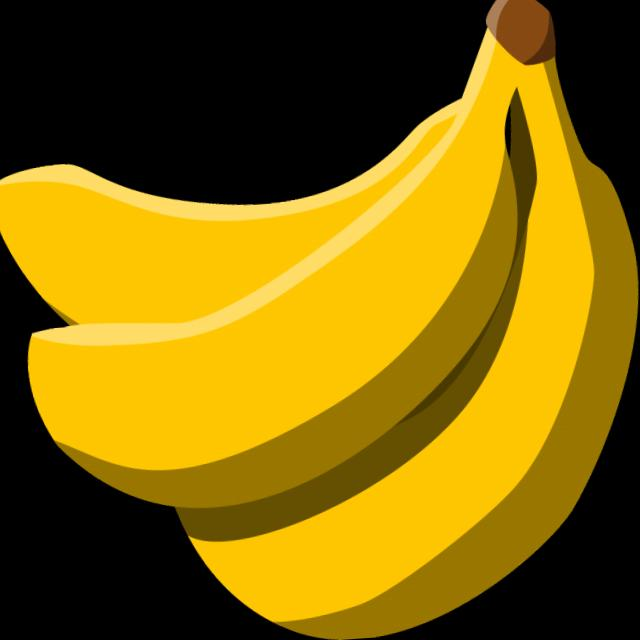banana: (142, 46, 640, 640), (0, 10, 578, 514), (0, 2, 552, 325)
